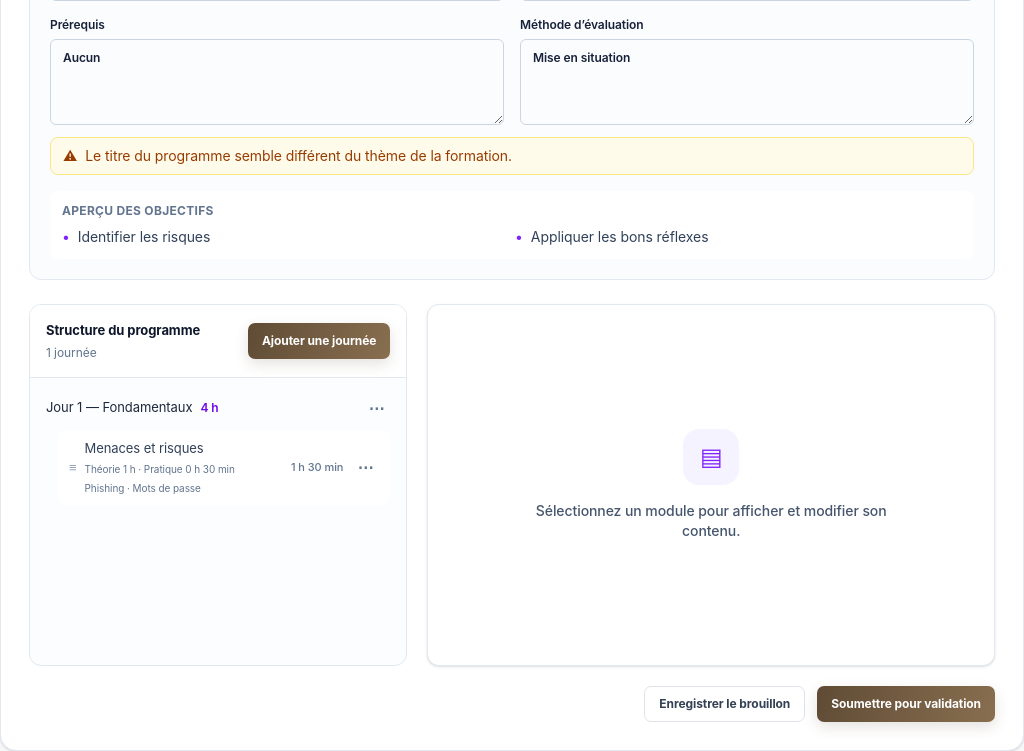
Scenario: Génération assistée du programme › présente la structure professionnelle, l’état vide et l’avertissement de titre
(page scrolled)
Expected: the text "Le titre du programme semble différent du thème de la formation." is shown, [85, 147, 512, 164]
Expected: the text "Sélectionnez un module pour afficher et modifier son contenu." is shown, [519, 501, 903, 541]
Click the button "Menaces et risques".
click(184, 467)  # box [84, 438, 283, 496]
(page scrolled)
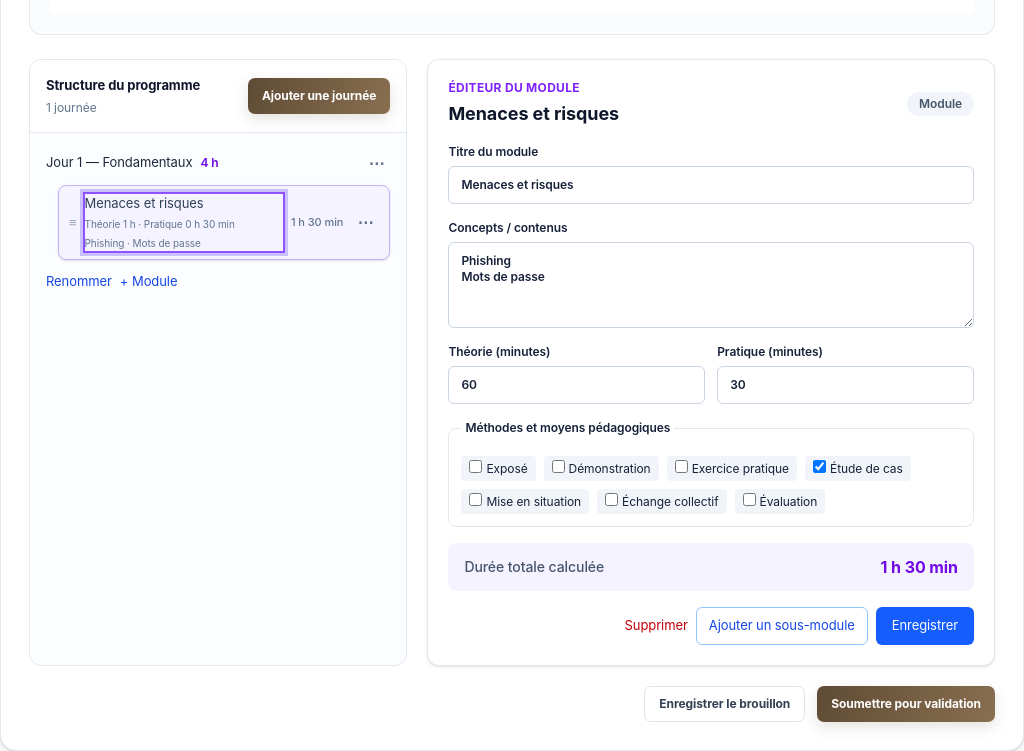
Expected: the text "1 h 30 min" below "Structure du programme" is shown, [291, 215, 343, 229]
Expected: the field labelled "Titre du module" holds "Menaces et risques", [448, 166, 974, 204]
